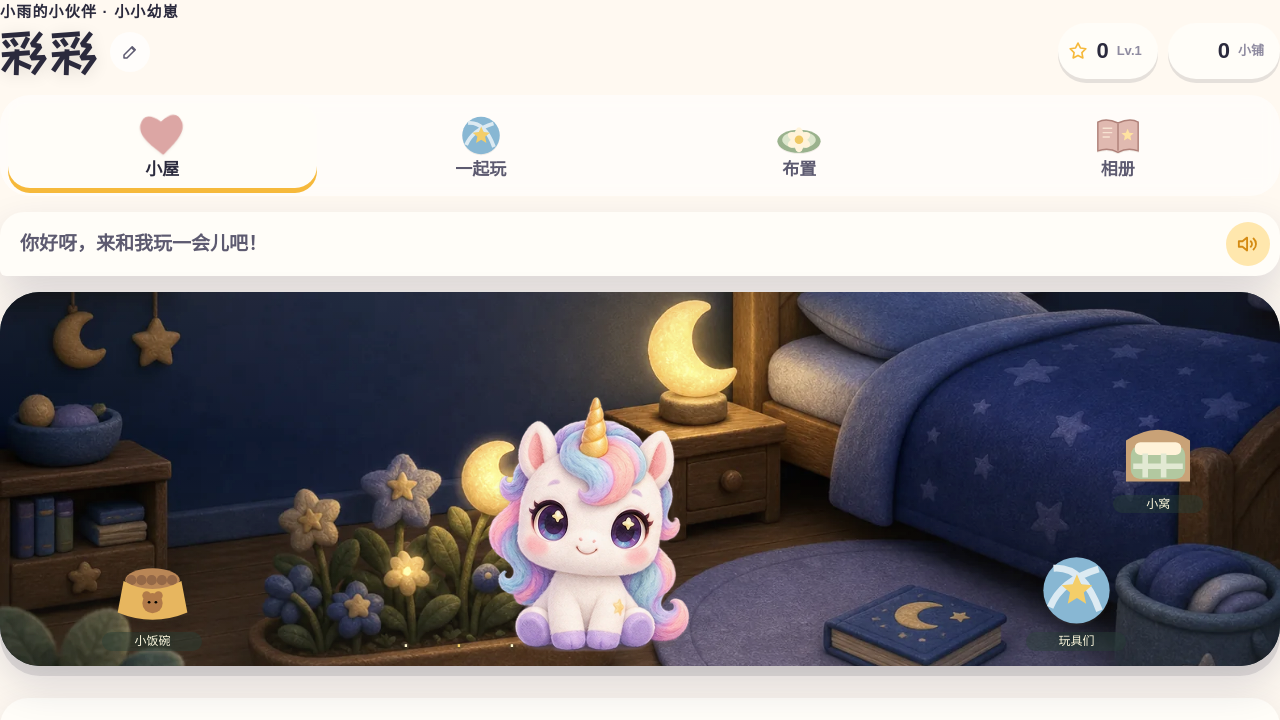
Scenario: child-visible star growth and badge shop › insufficient stars leave free care accessible without a purchase dialog
Click the button with aria-label "成长：" at (1108, 51), box top-left (1058, 23), bottom-right (1158, 79)
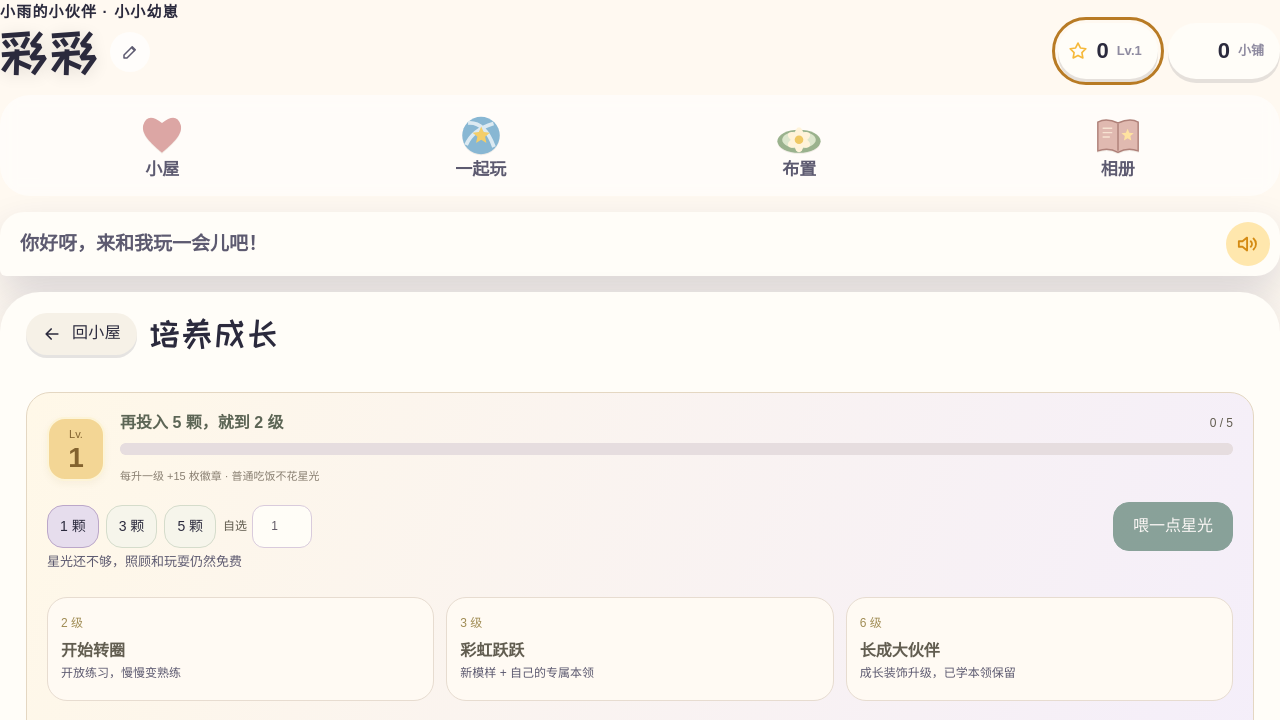
Expected: the button "喂一点星光" is disabled, top-left (1113, 502), bottom-right (1233, 551)
